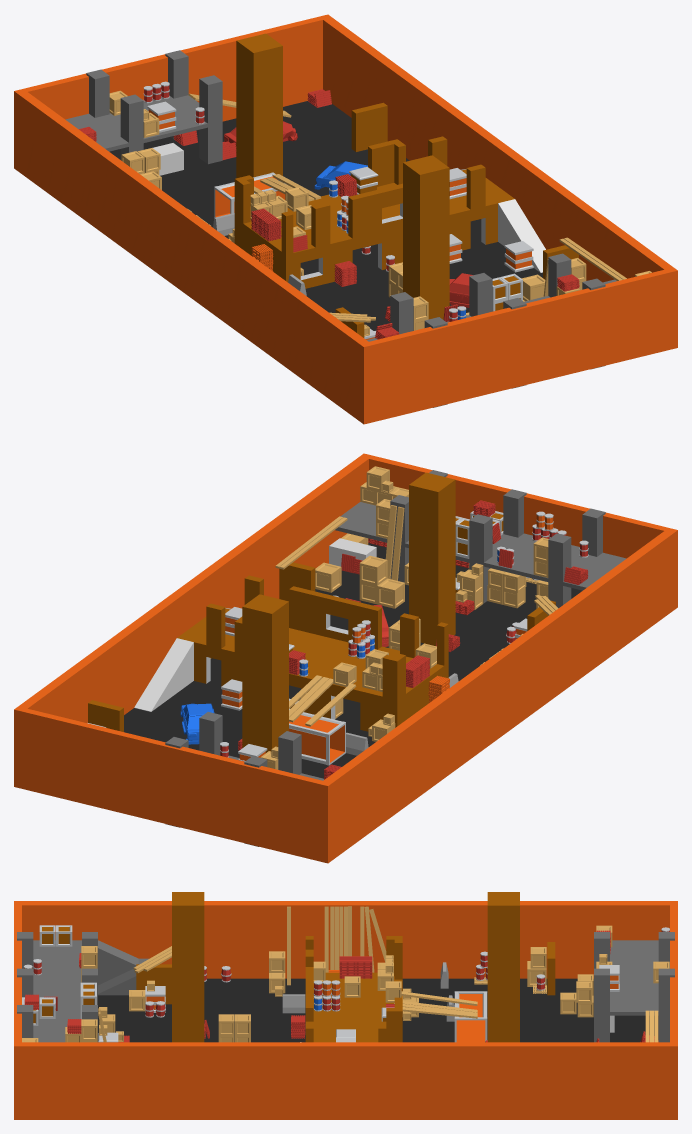
File: smallarenaupdated.glb
3 renders of one model, top to bottom at view 1: azimuth 30°, elevation 25°; view 2: azimuth 150°, elevation 25°; view 3: azimuth 270°, elevation 25°, orthographic. The views are drawn at different scales.
Parts seen in each view (by area): view 1: floors, room, Plane, Cube.016_0, obj.048_0, obj.049_0, Cube.004, Cube.001_0, obj.004_0, Cube.005, Cube.011_0, Cube.006 (+1 smaller); view 2: floors, room, Plane, Cube.004, obj.048_0, obj.049_0, Cube.016_0, Cube.002_0, Cube.005, obj.002_0, obj.004_0, Cube.017_0 (+4 smaller); view 3: floors, Plane, Cube.016_0, Cube.004, room, obj.048_0, obj.049_0, up2_0, Cube.005, Cube.030_0, obj.024_0, Cube.023_0 (+14 smaller).
Part boxes in pixels (bbox=[...]): floors: bbox=[14, 14, 677, 424]; room: bbox=[234, 136, 514, 288]; Plane: bbox=[110, 101, 542, 330]; Cube.016_0: bbox=[65, 50, 222, 164]; obj.048_0: bbox=[403, 155, 449, 319]; obj.049_0: bbox=[236, 33, 282, 178]; Cube.004: bbox=[367, 253, 616, 407]; Cube.001_0: bbox=[498, 199, 545, 272]; obj.004_0: bbox=[351, 102, 387, 151]; Cube.005: bbox=[214, 172, 286, 217]; Cube.011_0: bbox=[153, 143, 183, 175]; Cube.006: bbox=[449, 273, 473, 307]; floors: bbox=[14, 453, 677, 863]; room: bbox=[177, 575, 448, 731]; Plane: bbox=[124, 543, 581, 778]; Cube.004: bbox=[335, 470, 626, 608]; obj.048_0: bbox=[409, 472, 455, 645]; obj.049_0: bbox=[242, 594, 288, 752]; Cube.016_0: bbox=[165, 712, 323, 846]; Cube.002_0: bbox=[134, 638, 193, 711]; Cube.005: bbox=[289, 709, 345, 765]; obj.002_0: bbox=[279, 562, 315, 601]; obj.004_0: bbox=[88, 700, 123, 731]; Cube.017_0: bbox=[329, 538, 376, 566]; floors: bbox=[14, 901, 677, 1119]; Plane: bbox=[98, 978, 658, 1042]; Cube.016_0: bbox=[594, 932, 674, 1042]; Cube.004: bbox=[17, 932, 97, 1042]; room: bbox=[305, 936, 402, 1042]; obj.048_0: bbox=[172, 892, 204, 1042]; obj.049_0: bbox=[487, 892, 519, 1042]; up2_0: bbox=[98, 940, 148, 995]; Cube.005: bbox=[454, 991, 487, 1042]; Cube.030_0: bbox=[330, 906, 347, 969]; obj.024_0: bbox=[136, 964, 171, 1004]; Cube.023_0: bbox=[360, 906, 374, 972].
Bounding box in the file's own units: 59.43 × 28.32 × 115.
